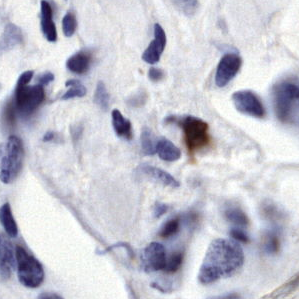Lymphocyte: (181, 116, 211, 152)
